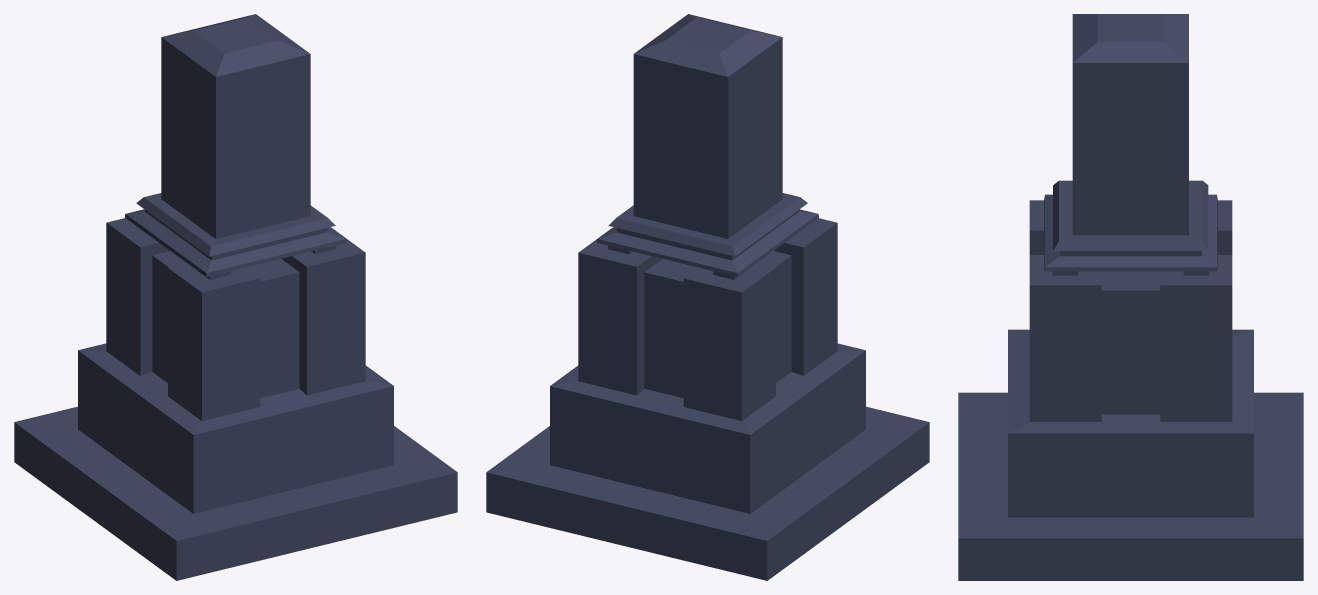
The model's file is J1Tomb.fbx.
The picture shows the model from 3 angles, left to right: view 1: azimuth 30°, elevation 25°; view 2: azimuth 150°, elevation 25°; view 3: azimuth 270°, elevation 25°; orthographic projection. The views are drawn at different scales.
Parts seen in each view (by area): view 1: J1Tomb; view 2: J1Tomb; view 3: J1Tomb.
Boxes of the visible parts, x1,y1,x2,y2 form: J1Tomb: [14, 14, 457, 580]; J1Tomb: [486, 14, 929, 580]; J1Tomb: [958, 14, 1303, 580].
Size of the model in its own units: 200 by 307 by 200.
